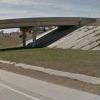Bridge: (5, 9, 94, 38)
